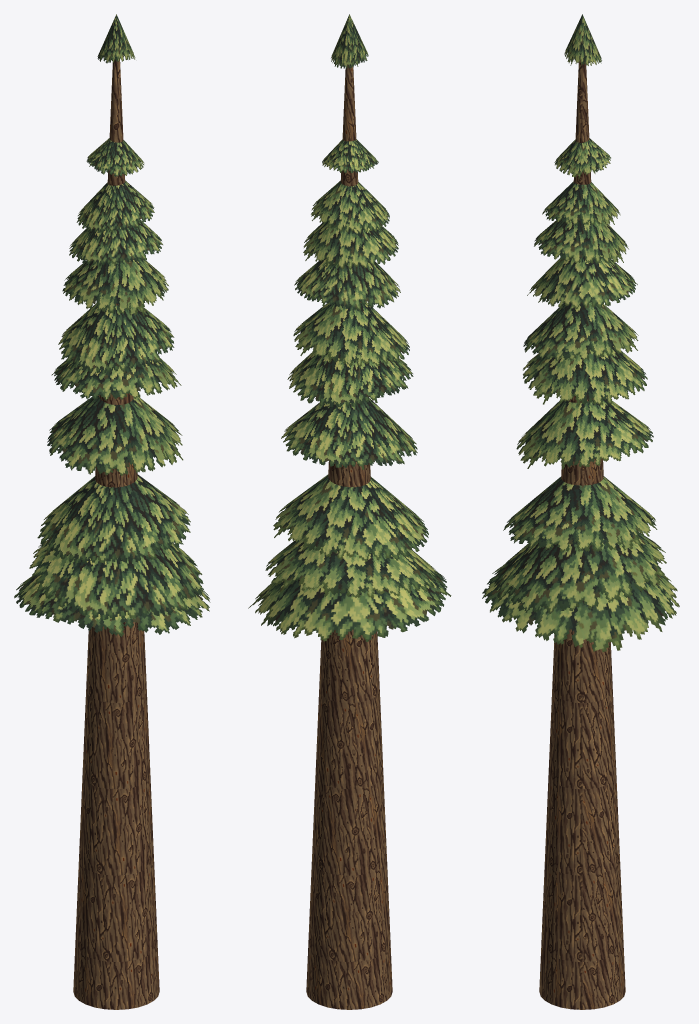
Rendered from arvore-2.glb.
The picture shows the model from 3 angles, left to right: view 1: azimuth 30°, elevation 25°; view 2: azimuth 150°, elevation 25°; view 3: azimuth 270°, elevation 25°; orthographic projection.
Visible parts, largest first — view 1: Arvore; view 2: Arvore; view 3: Arvore.
Part boxes in pixels (x1,y1,x2,y2): Arvore: [14, 14, 210, 1009]; Arvore: [248, 14, 451, 1009]; Arvore: [482, 14, 679, 1009].
Bounding box in the file's own units: 10.23 × 53.95 × 10.23.
Materials: 2 (2 with a texture image).
